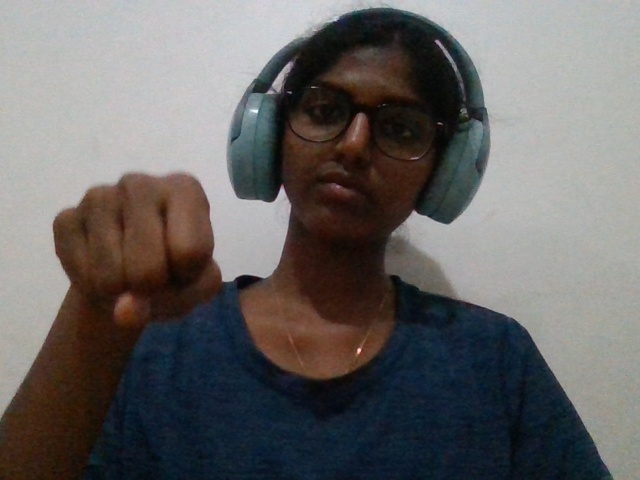Yes: (29, 154, 247, 395)
